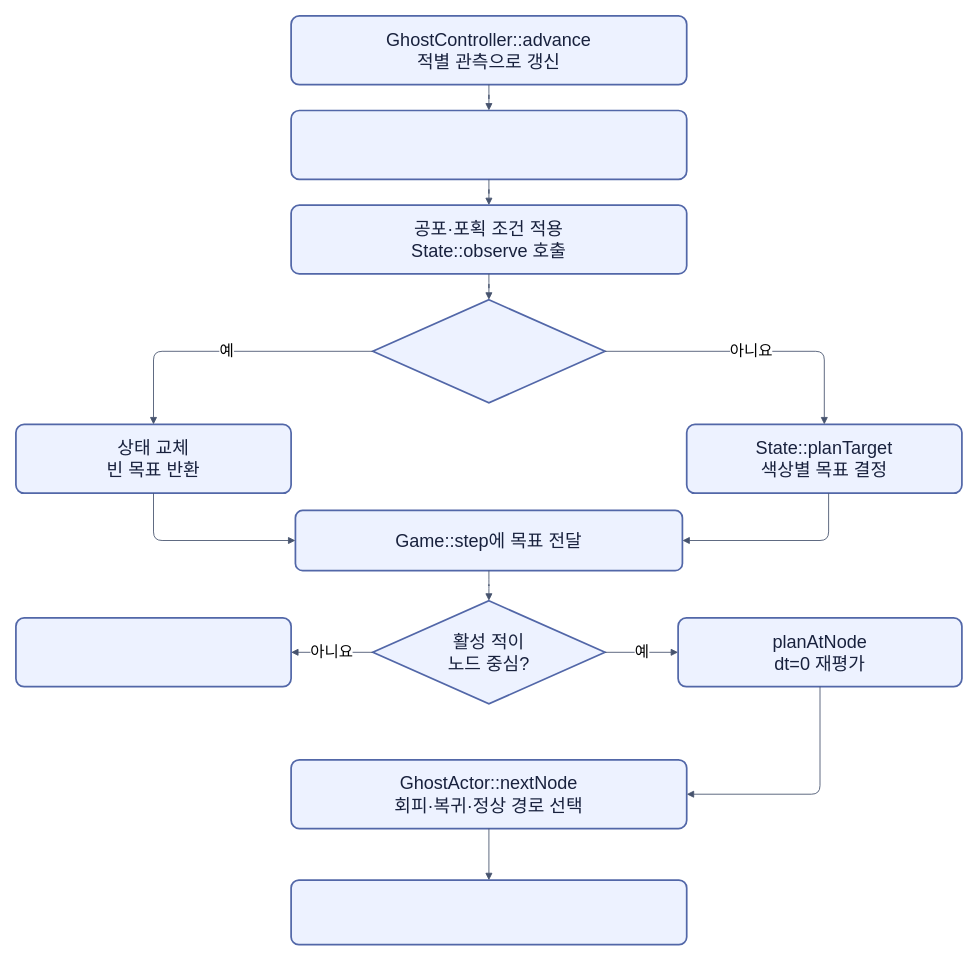
This 977x960 diagram has some shape labels left out. The centre of each missing label's shape, as x and y in pixels:
"Ghost::evaluate 복귀·출격·재배치 확인" goes at point (488, 144).
"상태 전이 요청?" goes at point (488, 350).
"필요 시 A* → 다음 노드 이동" goes at point (488, 912).
"현재 간선 이동 유지" goes at point (153, 652).
